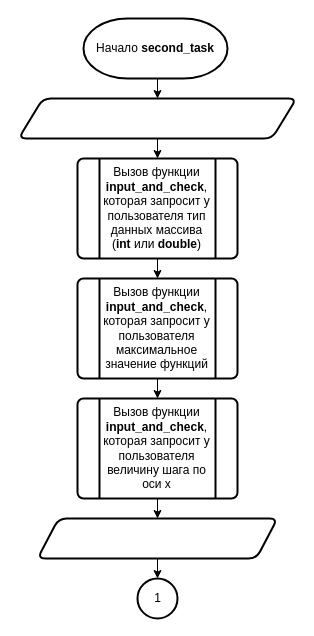
Some shapes in this 314 by 636 pixel diagram are drawn without their labels. The centre of each missing label's shape, as x and y in pixels:
"========= ВТОРОЙ ЭТАП =========\n": the point at 157,118
Вывод шапки таблицы, в которой будет время выполнения функций: the point at 157,538
